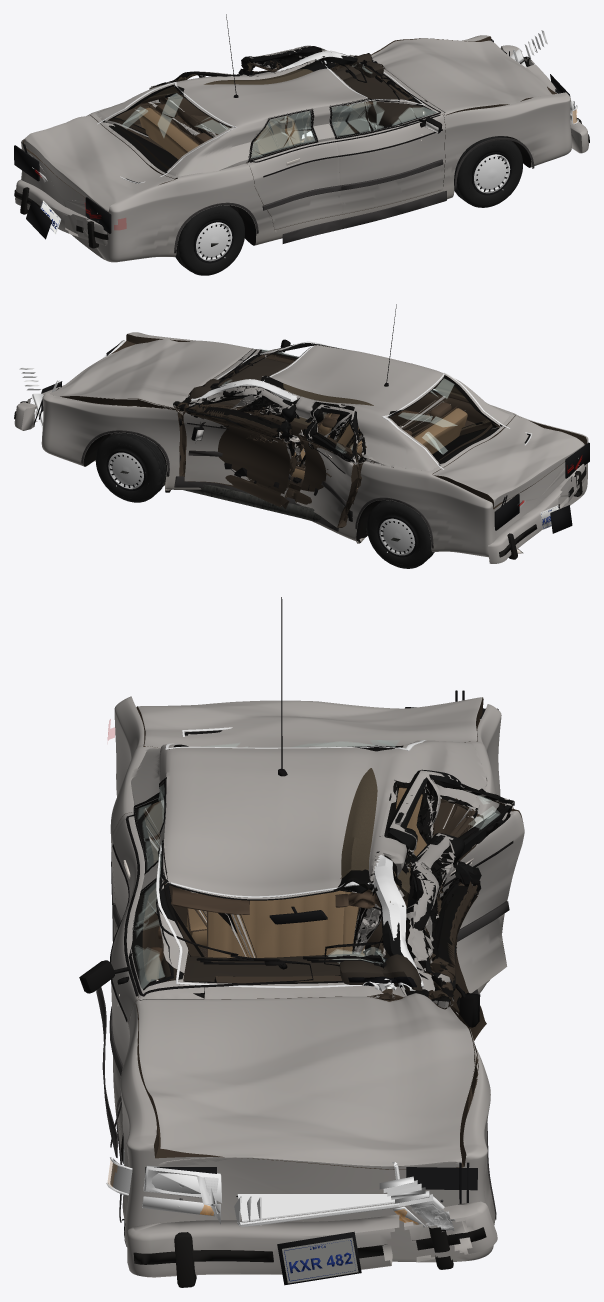
Rendered from sedan87_side_d2_lod1.glb.
The picture shows the model from 3 angles, top to bottom: view 1: azimuth 30°, elevation 25°; view 2: azimuth 150°, elevation 25°; view 3: azimuth 270°, elevation 25°; orthographic projection. The views are drawn at different scales.
Visible parts, largest first — view 1: Body, Hood, Door_FR, Trunk, Interior, Door_RR, Wheel_FR_mesh, Wheel_RR_mesh, Trim, Ends, Glass, Trim_FR (+7 smaller); view 2: Body, Door_FL, Hood, Trunk, Door_RL, Wheel_FL_mesh, Interior, Wheel_RL_mesh, Glass, Ends, Bumper_R, Trim (+8 smaller); view 3: Body, Hood, Interior, Ends, Bumper_F, Trunk, Door_RL, Door_FL, Door_FR, Glass, Trim_FR, Trim (+8 smaller).
Part boxes in pixels (<box>): Body: <box>21,35,571,262</box>; Hood: <box>367,38,551,115</box>; Door_FR: <box>329,99,445,214</box>; Trunk: <box>24,115,174,212</box>; Interior: <box>138,53,426,159</box>; Door_RR: <box>246,108,342,229</box>; Wheel_FR_mesh: <box>454,136,522,207</box>; Wheel_RR_mesh: <box>175,205,244,275</box>; Trim: <box>174,14,534,253</box>; Ends: <box>14,30,578,239</box>; Glass: <box>97,50,424,183</box>; Trim_FR: <box>330,77,443,190</box>; Body: <box>41,332,588,557</box>; Door_FL: <box>179,386,297,508</box>; Hood: <box>50,339,254,418</box>; Trunk: <box>433,416,584,507</box>; Door_RL: <box>293,404,361,527</box>; Wheel_FL_mesh: <box>95,433,166,502</box>; Interior: <box>189,357,467,488</box>; Wheel_RL_mesh: <box>366,500,434,568</box>; Glass: <box>191,341,531,469</box>; Ends: <box>19,340,589,533</box>; Bumper_R: <box>488,464,586,563</box>; Trim: <box>81,304,433,548</box>; Body: <box>110,696,501,1262</box>; Hood: <box>135,993,475,1169</box>; Interior: <box>160,786,434,991</box>; Ends: <box>106,690,498,1285</box>; Bumper_F: <box>126,1201,497,1287</box>; Trunk: <box>136,697,483,748</box>; Door_RL: <box>385,770,524,993</box>; Door_FL: <box>405,832,486,1040</box>; Door_FR: <box>111,839,204,1131</box>; Glass: <box>156,727,426,988</box>; Trim_FR: <box>79,840,313,1075</box>; Trim: <box>96,597,496,1222</box>.
Size of the model in its own units: 5.1 by 2.04 by 1.89.
Materials: 33 (5 with a texture image).
